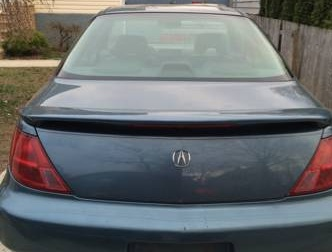acura: (1, 1, 331, 250)
